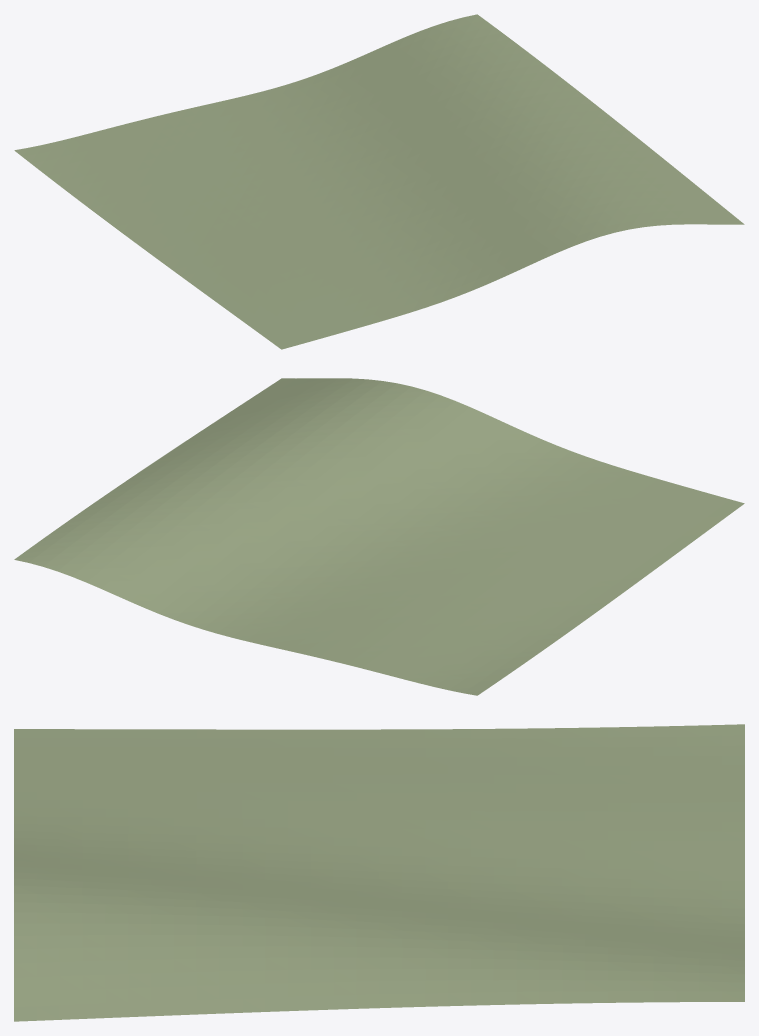
Rendered from desert-7-4.glb.
3 renders of one model, top to bottom at view 1: azimuth 30°, elevation 25°; view 2: azimuth 150°, elevation 25°; view 3: azimuth 270°, elevation 25°, orthographic. The views are drawn at different scales.
Visible parts, largest first — view 1: desert-7-4; view 2: desert-7-4; view 3: desert-7-4.
Boxes of the visible parts, x1,y1,x2,y2 form: desert-7-4: (14, 14, 744, 349); desert-7-4: (14, 378, 744, 695); desert-7-4: (14, 724, 744, 1021).
Size of the model in its own units: 512 by 38.04 by 512.
